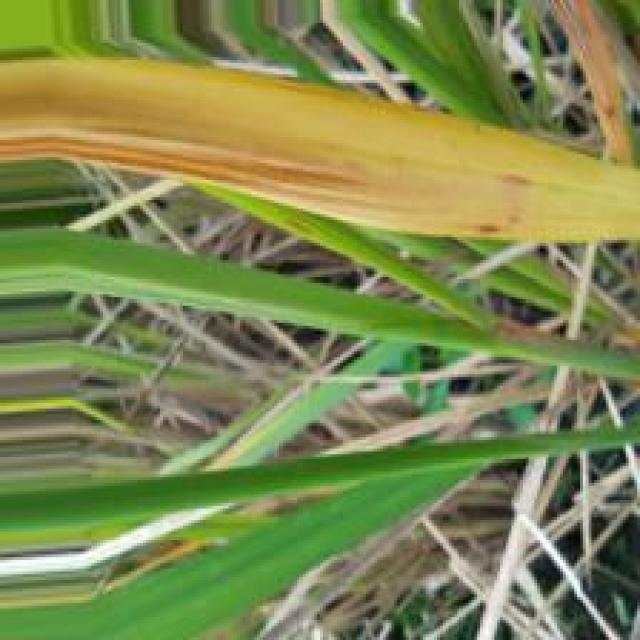Narrow_Brown_Leaf_Spot: (0, 53, 637, 243)
